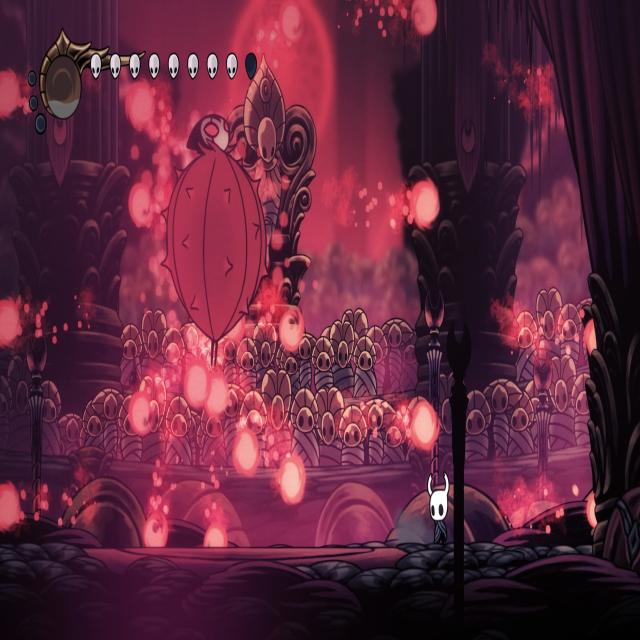Player: (425, 464, 452, 545)
Pufferfish: (157, 109, 273, 379)
Tiny Fireballs: (126, 81, 157, 132), (411, 180, 439, 230), (412, 399, 439, 450), (183, 364, 210, 412), (233, 430, 260, 477), (279, 457, 305, 505), (127, 182, 151, 230), (279, 307, 304, 352), (128, 393, 152, 436), (280, 3, 304, 45), (0, 484, 20, 534), (0, 70, 20, 119), (412, 0, 437, 39), (0, 299, 20, 347), (206, 375, 228, 418), (144, 510, 168, 547), (584, 318, 598, 355), (587, 486, 598, 530), (205, 525, 226, 548)
